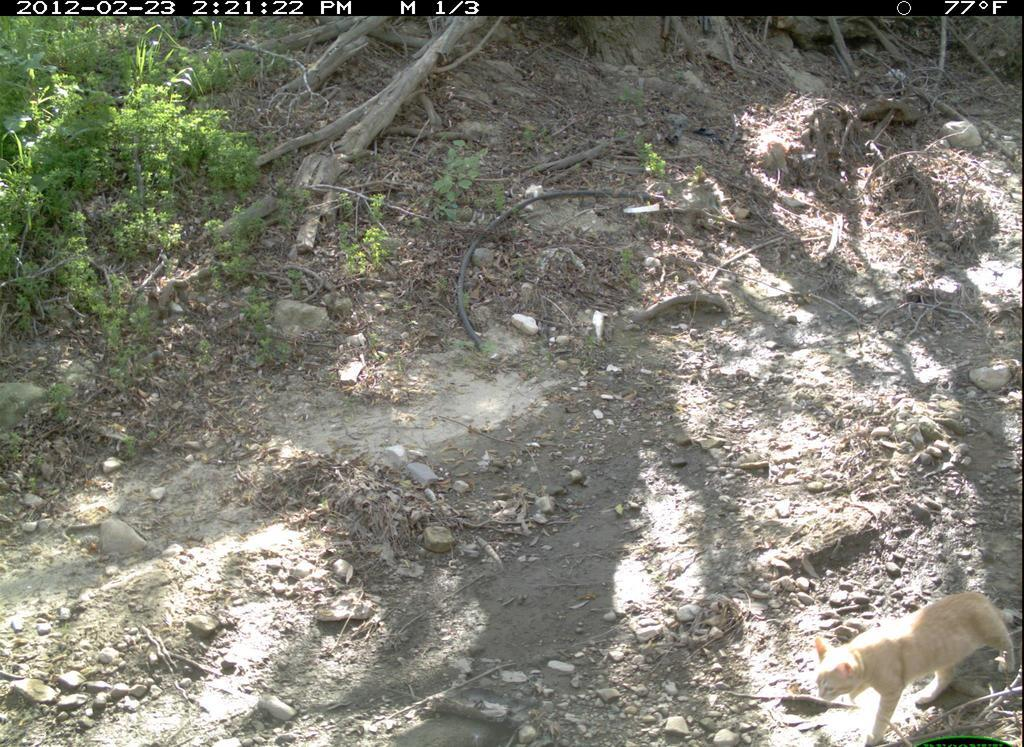cat: (809, 583, 1014, 743)
